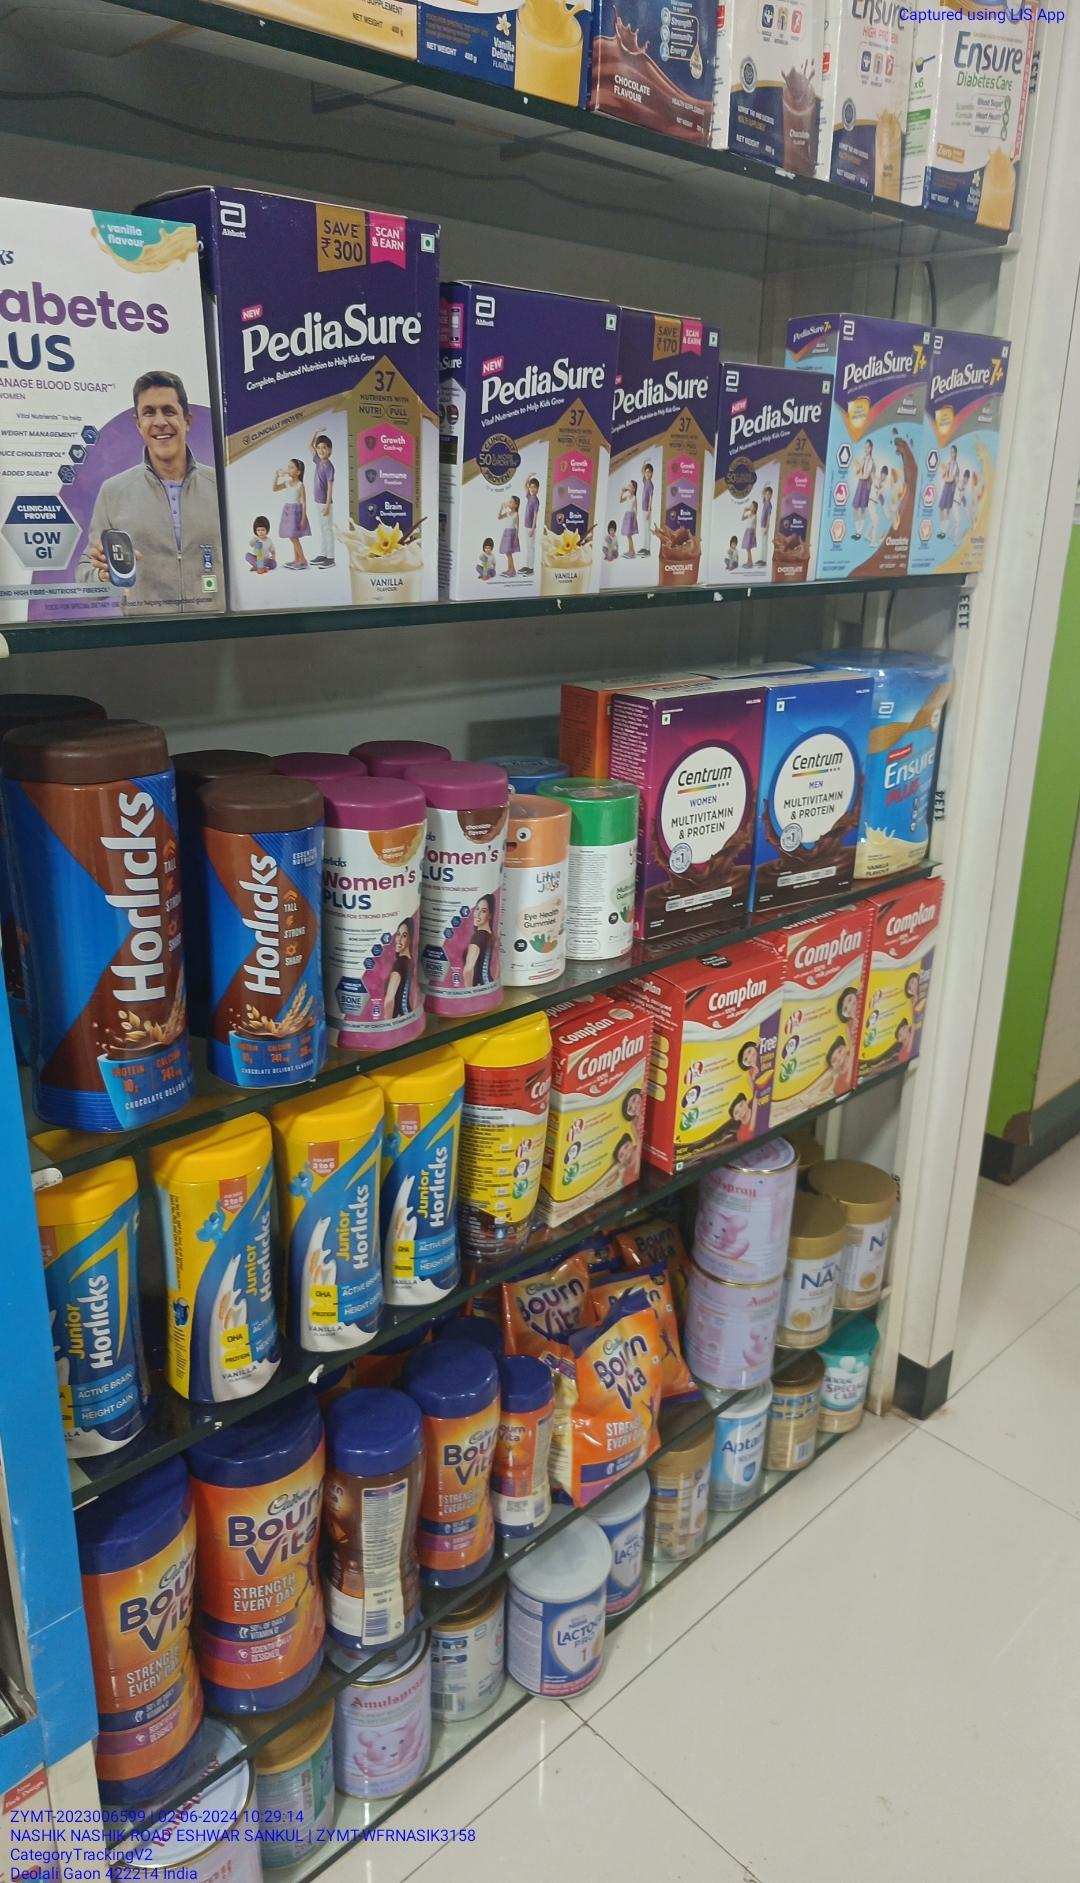PEDIASURE_7_PLUS_CHOCOLATE_400_G_PACK: (829, 308, 923, 579)
PEDIASURE_CHOCOLATE_500_G_PACK: (617, 305, 711, 581)
PEDIASURE_VANILLA_500_G_PACK: (451, 286, 613, 596)
